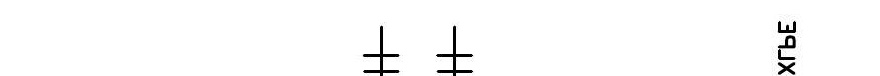115_buffer: (436, 54, 473, 73), (363, 54, 400, 73)
